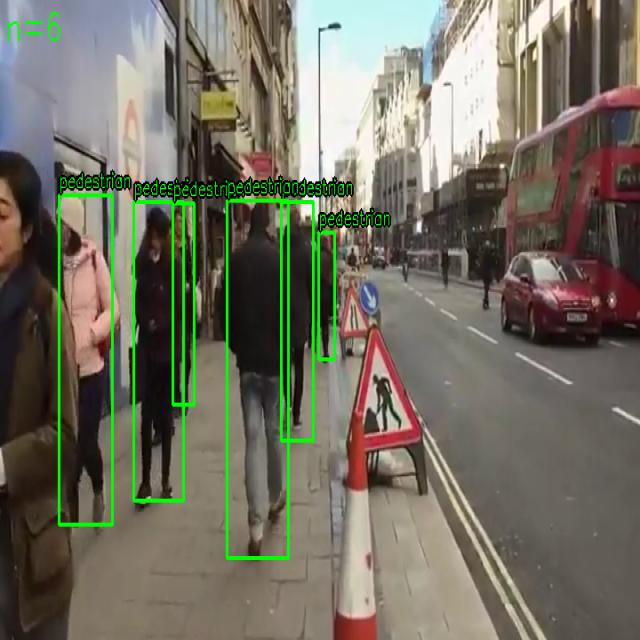with scooter: (227, 200, 289, 559), (59, 195, 113, 525), (133, 202, 184, 502), (281, 202, 314, 442), (172, 203, 195, 405), (318, 232, 335, 360)
